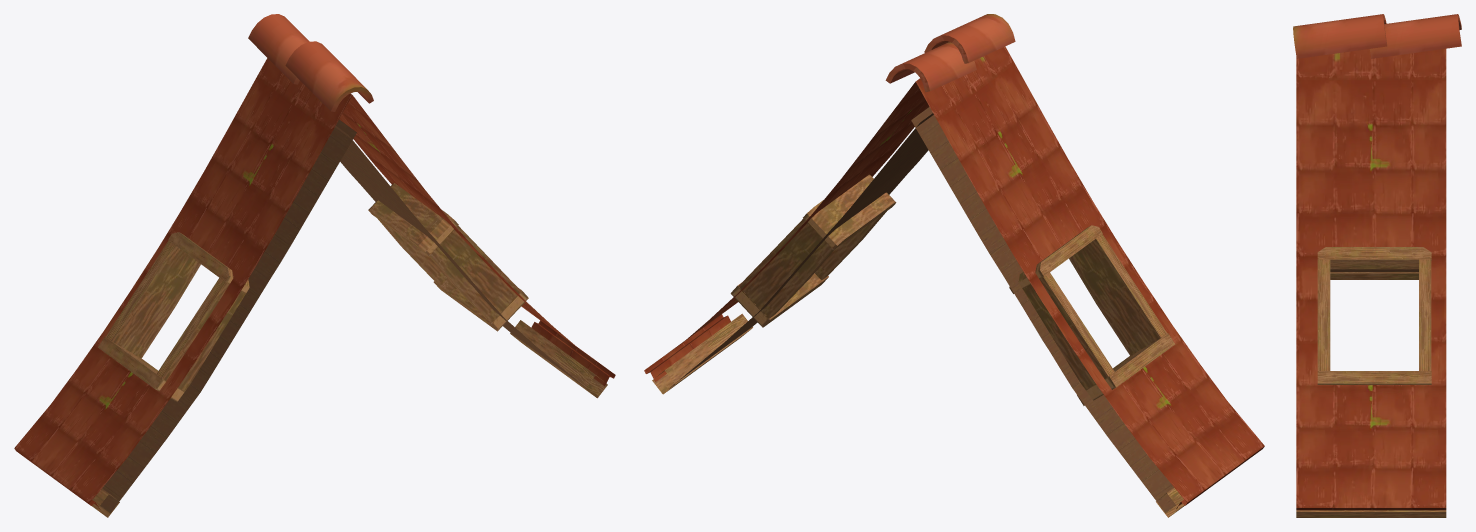
Rendered from Roof_Modular_FlatTiles_6_Dormer.glb.
3 views of the same model, side by side, from view 1: azimuth 30°, elevation 25°; view 2: azimuth 150°, elevation 25°; view 3: azimuth 270°, elevation 25° (orthographic). The views are drawn at different scales.
Parts seen in each view (by area): view 1: Roof_Modular_FlatTiles_6_Dormer; view 2: Roof_Modular_FlatTiles_6_Dormer; view 3: Roof_Modular_FlatTiles_6_Dormer.
Part boxes in pixels (left/top/right/bottom): Roof_Modular_FlatTiles_6_Dormer: left=14, top=14, right=615, bottom=517; Roof_Modular_FlatTiles_6_Dormer: left=644, top=14, right=1264, bottom=517; Roof_Modular_FlatTiles_6_Dormer: left=1293, top=14, right=1461, bottom=517.
Size of the model in its own units: 8.07 by 5.63 by 2.25.
Materials: 3 (3 with a texture image).
